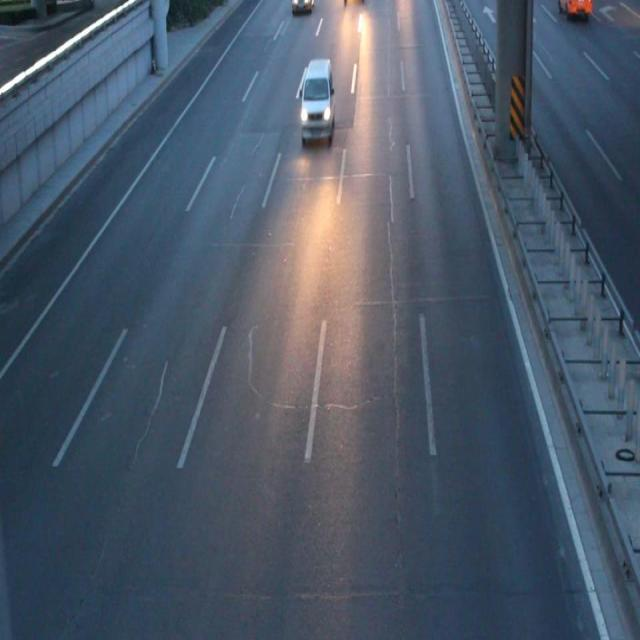car: (291, 1, 313, 13)
truck: (302, 59, 333, 137), (555, 1, 591, 14)
